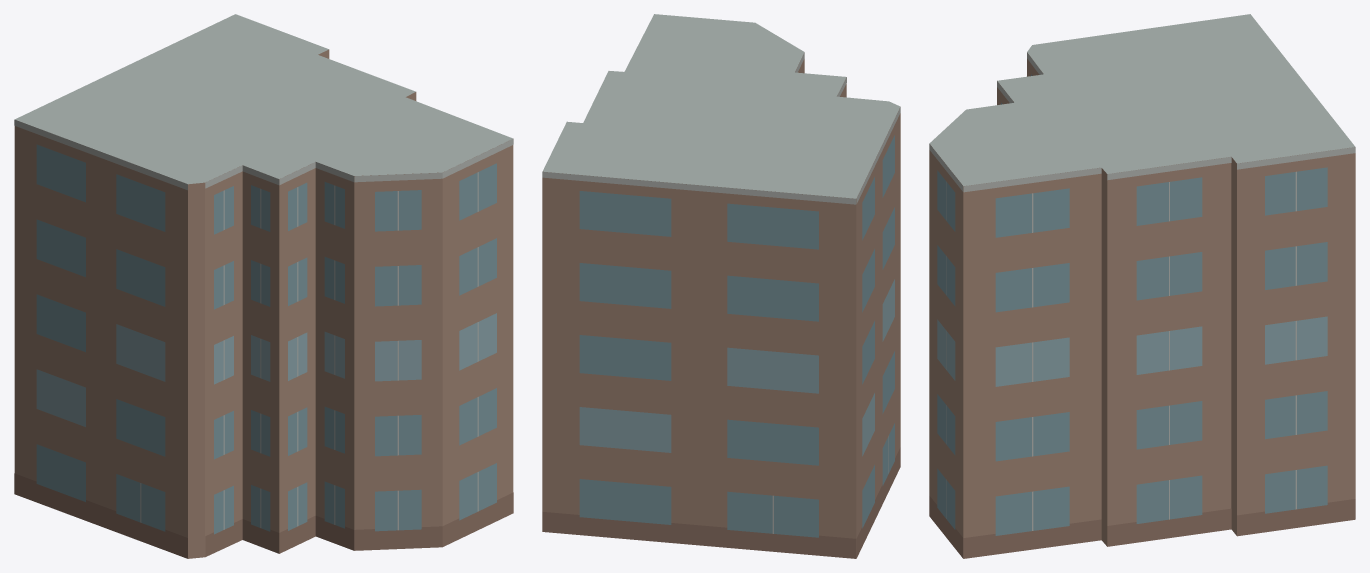
Rendered from survey-upis-32526783.glb.
3 views of the same model, side by side, from view 1: azimuth 30°, elevation 25°; view 2: azimuth 150°, elevation 25°; view 3: azimuth 270°, elevation 25° (orthographic). The views are drawn at different scales.
Parts seen in each view (by area): view 1: survey-upis-32526783.tmp; view 2: survey-upis-32526783.tmp; view 3: survey-upis-32526783.tmp.
Boxes of the visible parts, <box> form: survey-upis-32526783.tmp: <box>14,14,513,558</box>; survey-upis-32526783.tmp: <box>542,14,900,558</box>; survey-upis-32526783.tmp: <box>929,14,1355,558</box>.
Size of the model in its own units: 14.62 by 14.75 by 15.3.
